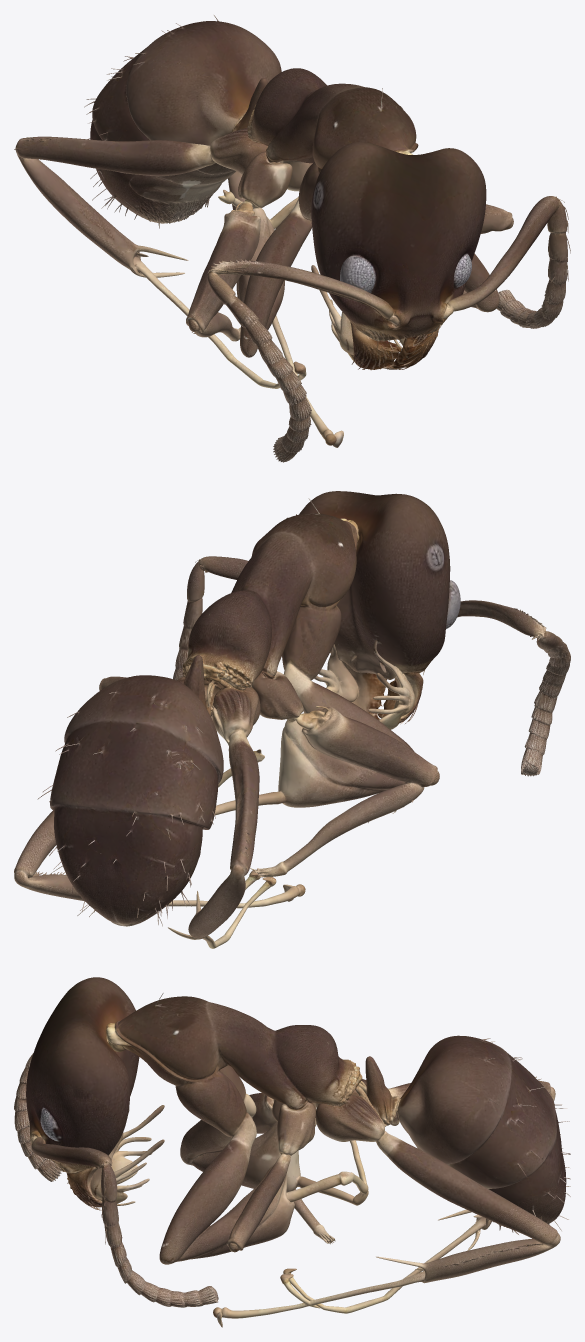
File: esp7.glb
The picture shows the model from 3 angles, top to bottom: view 1: azimuth 30°, elevation 25°; view 2: azimuth 150°, elevation 25°; view 3: azimuth 270°, elevation 25°; orthographic projection. The views are drawn at different scales.
Size of the model in its own units: 1.32 by 1.27 by 1.88.
1 material, 1 textured.
